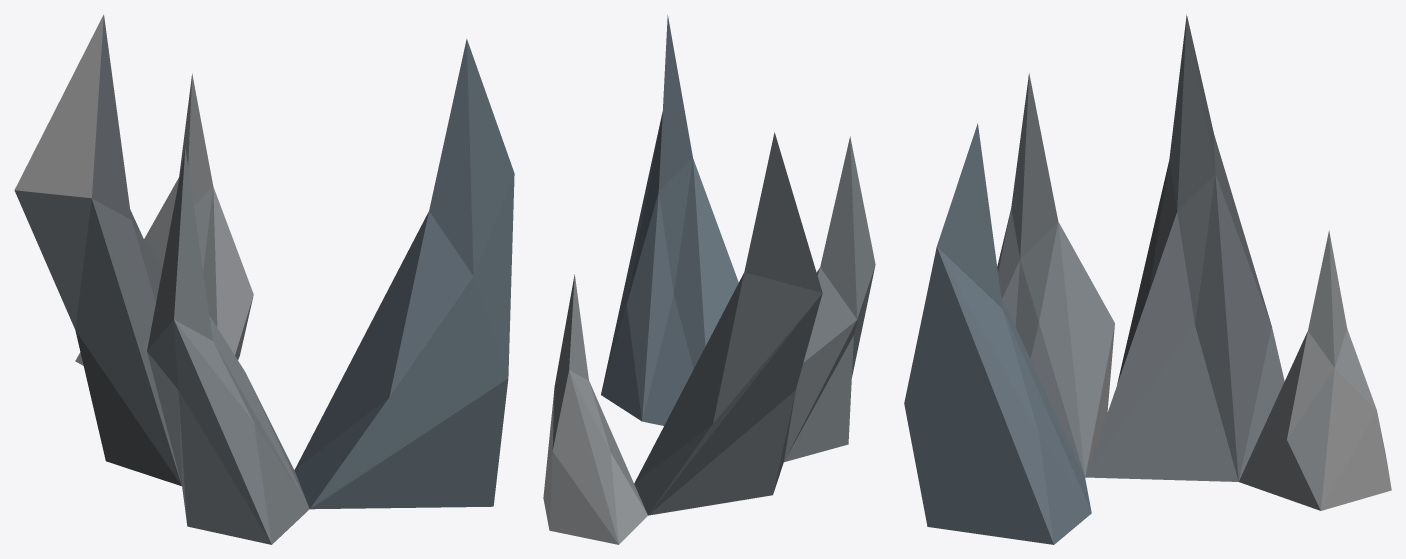
File: rock09.fbx
The picture shows the model from 3 angles, left to right: view 1: azimuth 30°, elevation 25°; view 2: azimuth 150°, elevation 25°; view 3: azimuth 270°, elevation 25°; orthographic projection. The views are drawn at different scales.
Parts seen in each view (by area): view 1: pCube10; view 2: pCube10; view 3: pCube10.
Boxes of the visible parts, x1,y1,x2,y2 form: pCube10: [14, 14, 514, 544]; pCube10: [543, 15, 875, 544]; pCube10: [904, 14, 1391, 544].
Bounding box in the file's own units: 0.1012 × 0.1197 × 0.1308.
